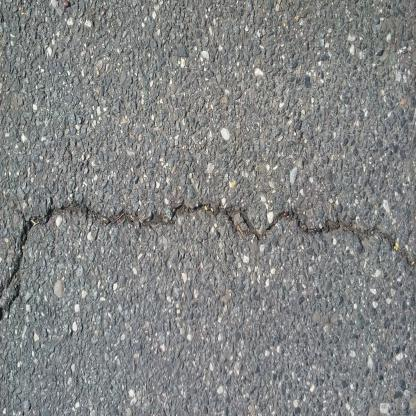Cracks: (0, 188, 416, 331)
